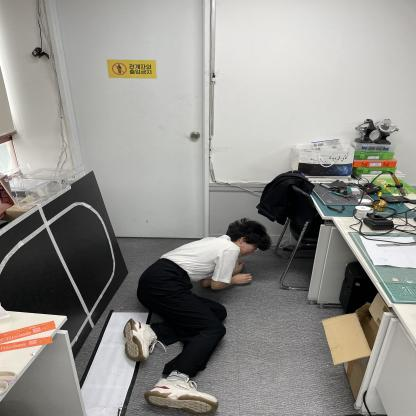fall: (125, 218, 270, 410)
